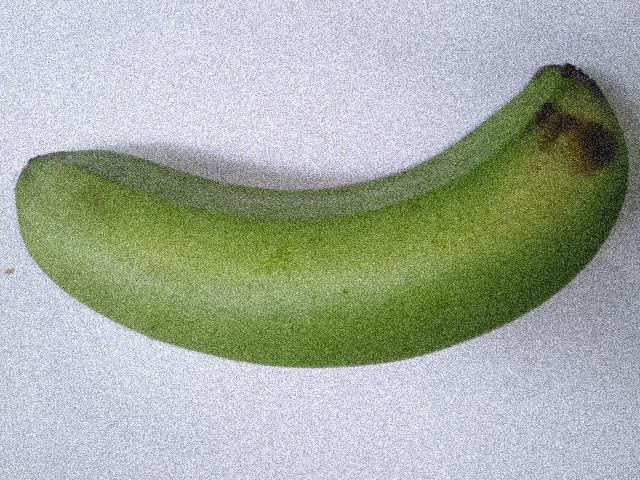freshunripe: (8, 51, 639, 386)
